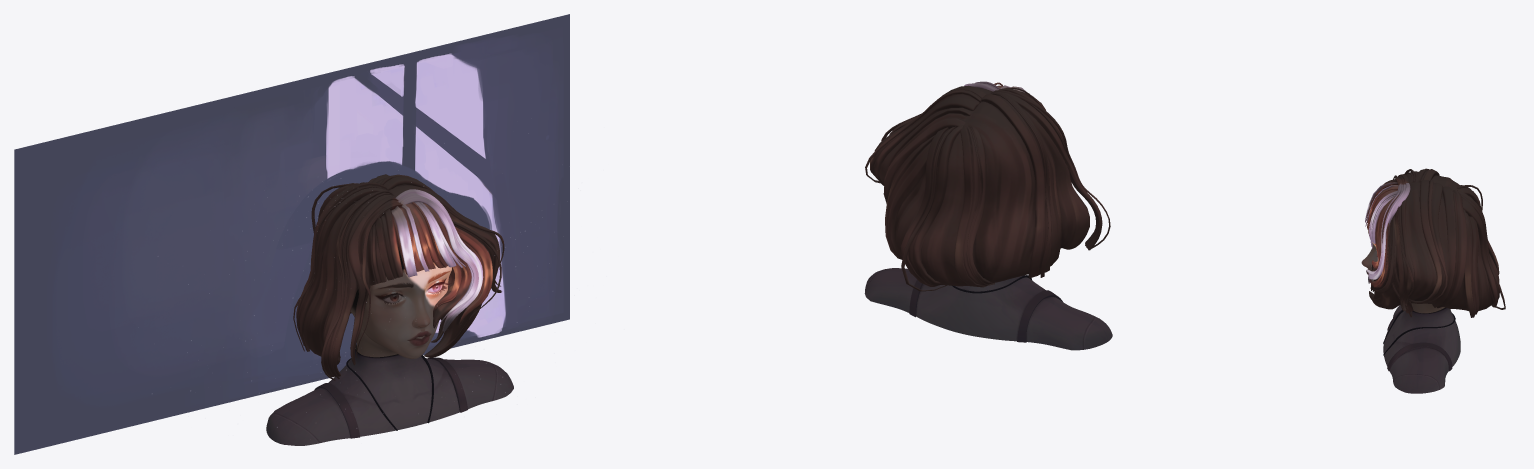
File: moon.glb
3 renders of one model, left to right at view 1: azimuth 30°, elevation 25°; view 2: azimuth 150°, elevation 25°; view 3: azimuth 270°, elevation 25°, orthographic. The views are drawn at different scales.
Visible parts, largest first — view 1: background, hair_strands, transparent_shirt, face, hair_big_chunk, shirt_bands, hair_small_chunk; view 2: hair_strands, hair_big_chunk, transparent_shirt, shirt_bands; view 3: hair_strands, transparent_shirt, hair_big_chunk, shirt_bands, face, necklace.
Part boxes in pixels (x1=…): background: x1=14, y1=14, x2=569, y2=454; hair_strands: x1=293, y1=174, x2=504, y2=380; transparent_shirt: x1=266, y1=344, x2=513, y2=445; face: x1=350, y1=247, x2=451, y2=358; hair_big_chunk: x1=303, y1=183, x2=495, y2=364; shirt_bands: x1=314, y1=357, x2=467, y2=438; hair_small_chunk: x1=433, y1=254, x2=471, y2=328; hair_strands: x1=865, y1=81, x2=1110, y2=291; hair_big_chunk: x1=874, y1=87, x2=1089, y2=286; transparent_shirt: x1=864, y1=268, x2=1112, y2=350; shirt_bands: x1=909, y1=279, x2=1062, y2=342; hair_strands: x1=1365, y1=168, x2=1505, y2=317; transparent_shirt: x1=1383, y1=305, x2=1460, y2=393; hair_big_chunk: x1=1369, y1=175, x2=1499, y2=310; shirt_bands: x1=1387, y1=309, x2=1452, y2=371; face: x1=1361, y1=219, x2=1444, y2=313; necklace: x1=1383, y1=310, x2=1455, y2=355.
Bounding box in the file's own units: 4.7 × 2.47 × 2.32.
Materials: 4 (4 with a texture image).
